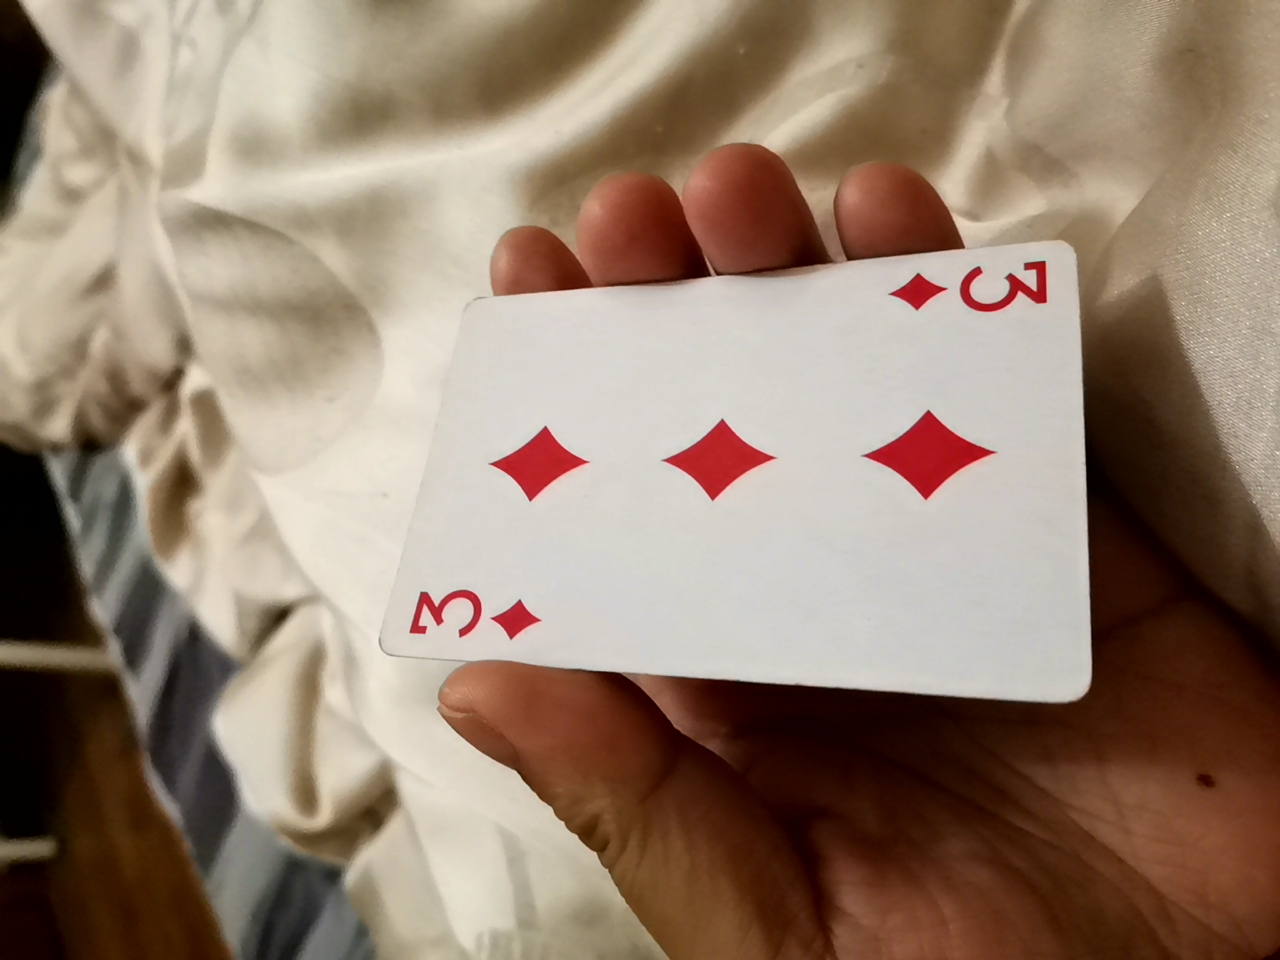fk 3: (376, 245, 1087, 710)
